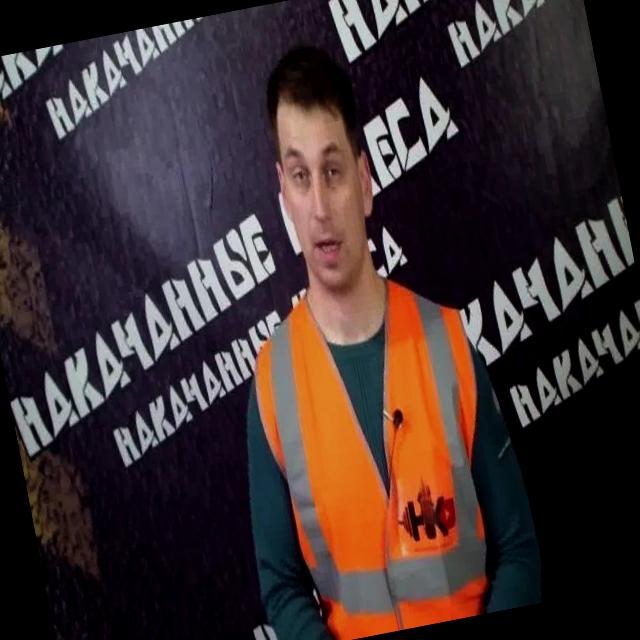vest: (237, 265, 523, 640)
